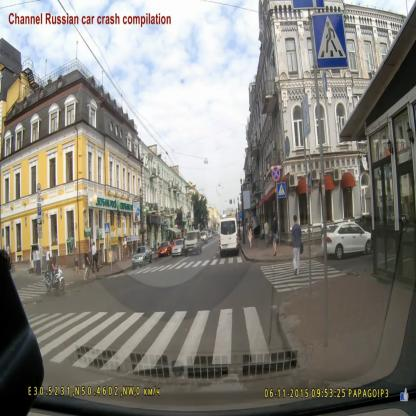crosswalk: (33, 310, 274, 372), (112, 252, 243, 276), (260, 260, 345, 293), (16, 278, 74, 309)
